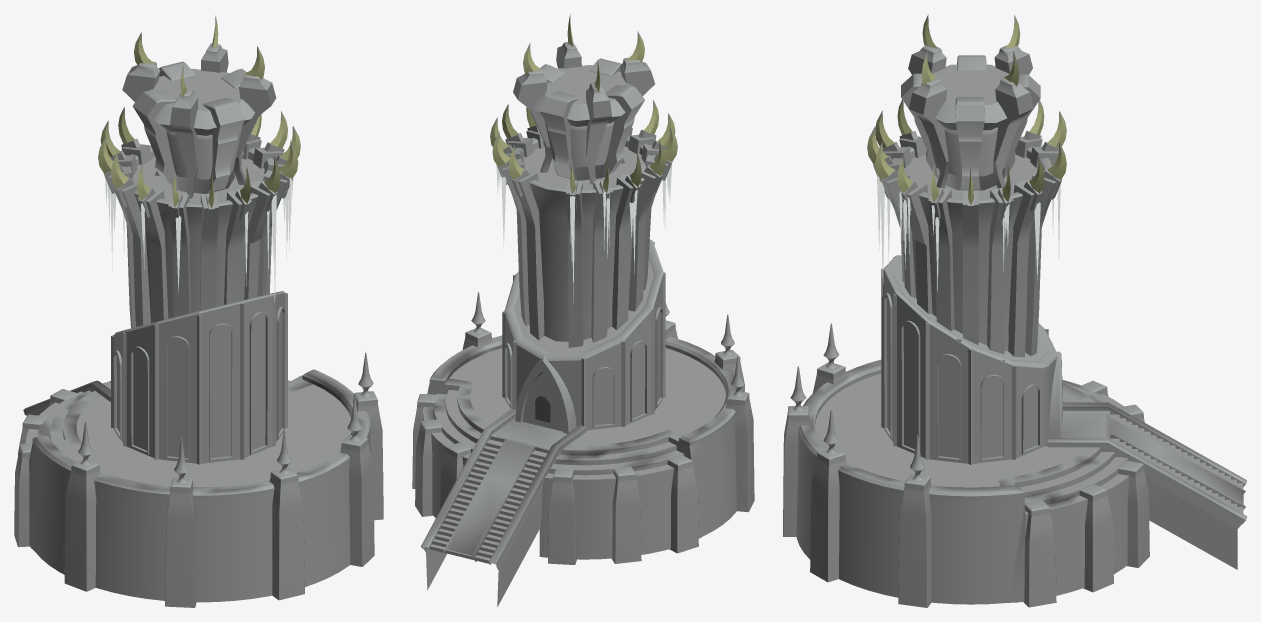
The picture shows the model from 3 angles, left to right: view 1: azimuth 30°, elevation 25°; view 2: azimuth 150°, elevation 25°; view 3: azimuth 270°, elevation 25°; orthographic projection. The views are drawn at different scales.
Visible parts, largest first — view 1: G:\FFXIV-MapTools\exports\r2f1\bg\ex1\01_roc_r2\fld\r2f1\bgp (×9); view 2: G:\FFXIV-MapTools\exports\r2f1\bg\ex1\01_roc_r2\fld\r2f1\bgp (×9); view 3: G:\FFXIV-MapTools\exports\r2f1\bg\ex1\01_roc_r2\fld\r2f1\bgp (×9).
Part boxes in pixels (<box>): G:\FFXIV-MapTools\exports\r2f1\bg\ex1\01_roc_r2\fld\r2f1\bgp (×9): <box>14,15,383,607</box>; G:\FFXIV-MapTools\exports\r2f1\bg\ex1\01_roc_r2\fld\r2f1\bgp (×9): <box>412,14,754,606</box>; G:\FFXIV-MapTools\exports\r2f1\bg\ex1\01_roc_r2\fld\r2f1\bgp (×9): <box>783,14,1246,607</box>.
Size of the model in its own units: 16.12 by 25.19 by 20.41.
